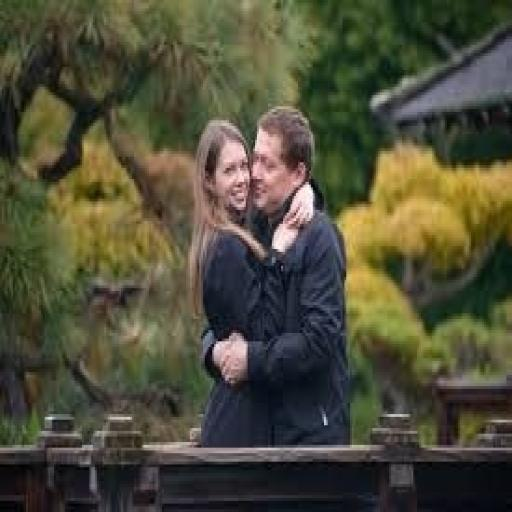hugging: (188, 104, 352, 448)
